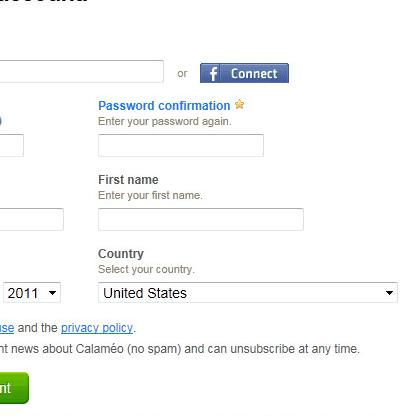button: (199, 62, 289, 85)
field: (98, 282, 397, 304), (97, 207, 304, 232), (98, 132, 265, 158), (1, 282, 60, 304)
field_with_label: (96, 263, 400, 307), (95, 189, 308, 235), (96, 116, 268, 159)
